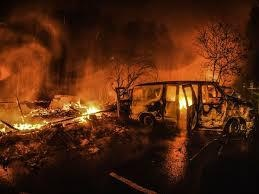fire: (63, 95, 102, 123), (175, 89, 194, 111)
